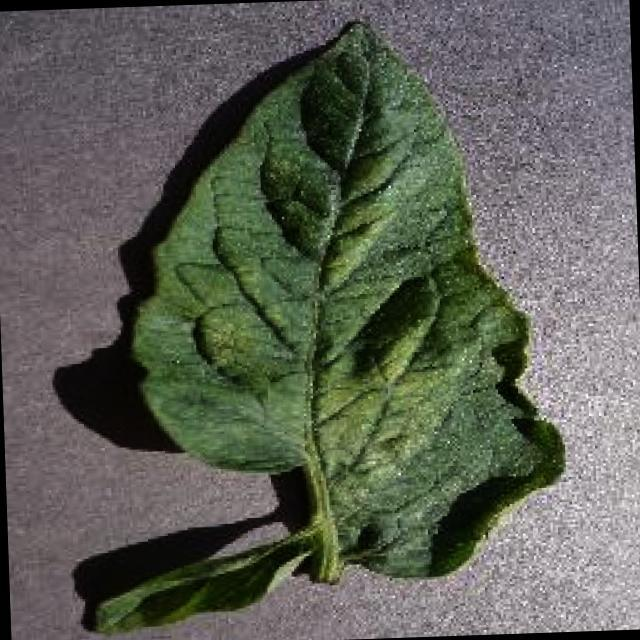Tomato spider mites leaf: (119, 12, 570, 583)
